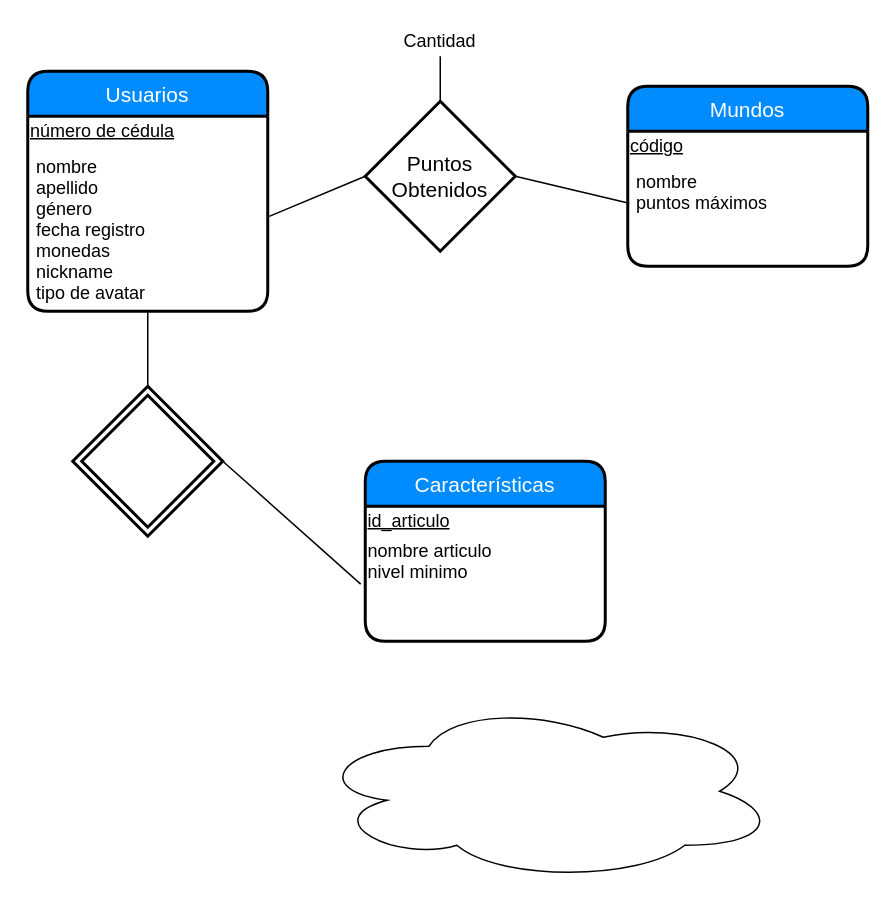
This 894x908 diagram has some shape labels left out. Here are the shapes that lost their labels. From the top down, the centre of each, then its label:
At point (147, 460): "Tiene".
At point (544, 790): "Un ejemplo de caracteristica sería 5555 | camisa negra | 10".
